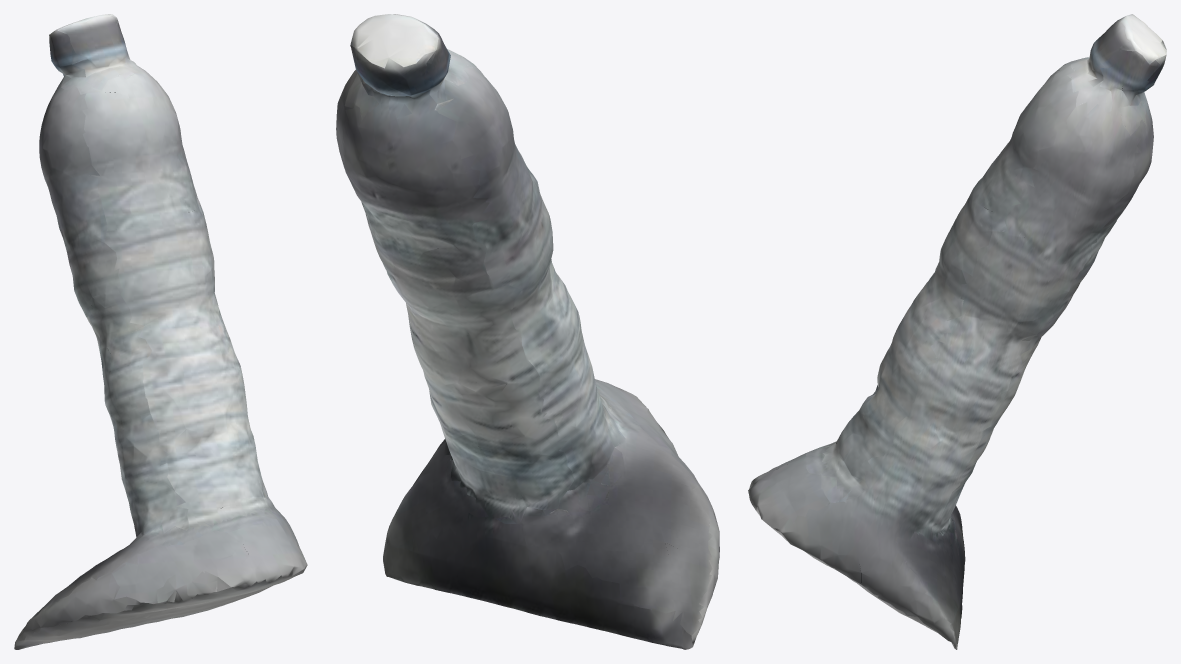
File: bottle.glb
The picture shows the model from 3 angles, left to right: view 1: azimuth 30°, elevation 25°; view 2: azimuth 150°, elevation 25°; view 3: azimuth 270°, elevation 25°; orthographic projection. The views are drawn at different scales.
Parts seen in each view (by area): view 1: world; view 2: world; view 3: world.
Boxes of the visible parts, box(x1,y1,x2,y2) form: world: box(14, 14, 307, 649); world: box(336, 14, 719, 649); world: box(748, 14, 1166, 649).
Bounding box in the file's own units: 0.4448 × 0.8941 × 0.5854.
Materials: 1 (1 with a texture image).
